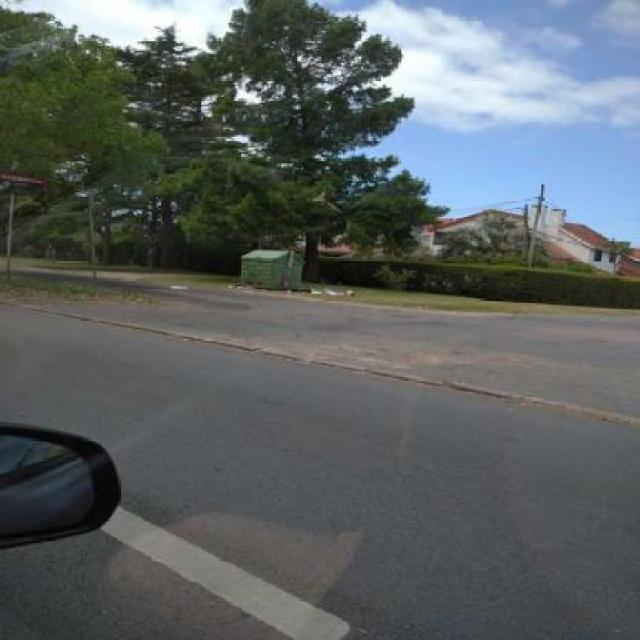garbage: (293, 276, 370, 302), (225, 280, 269, 293), (172, 285, 193, 298)
